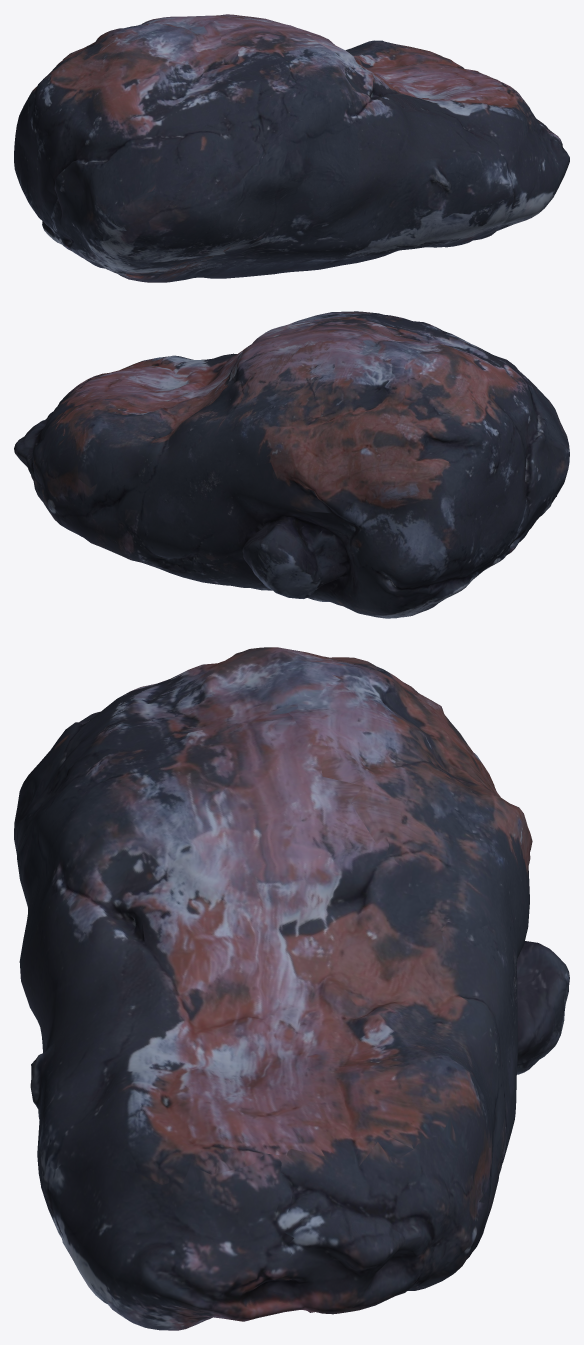
File: Henry_Car.glb
3 views of the same model, one above another, from view 1: azimuth 30°, elevation 25°; view 2: azimuth 150°, elevation 25°; view 3: azimuth 270°, elevation 25° (orthographic). The views are drawn at different scales.
Parts seen in each view (by area): view 1: Henry_Car; view 2: Henry_Car; view 3: Henry_Car.
Boxes of the visible parts, box(x1,y1,x2,y2) form: Henry_Car: box(14, 14, 569, 282); Henry_Car: box(14, 311, 569, 618); Henry_Car: box(14, 647, 569, 1330).
Size of the model in its own units: 1.56 by 0.7484 by 0.9032.
1 material, 1 textured.
